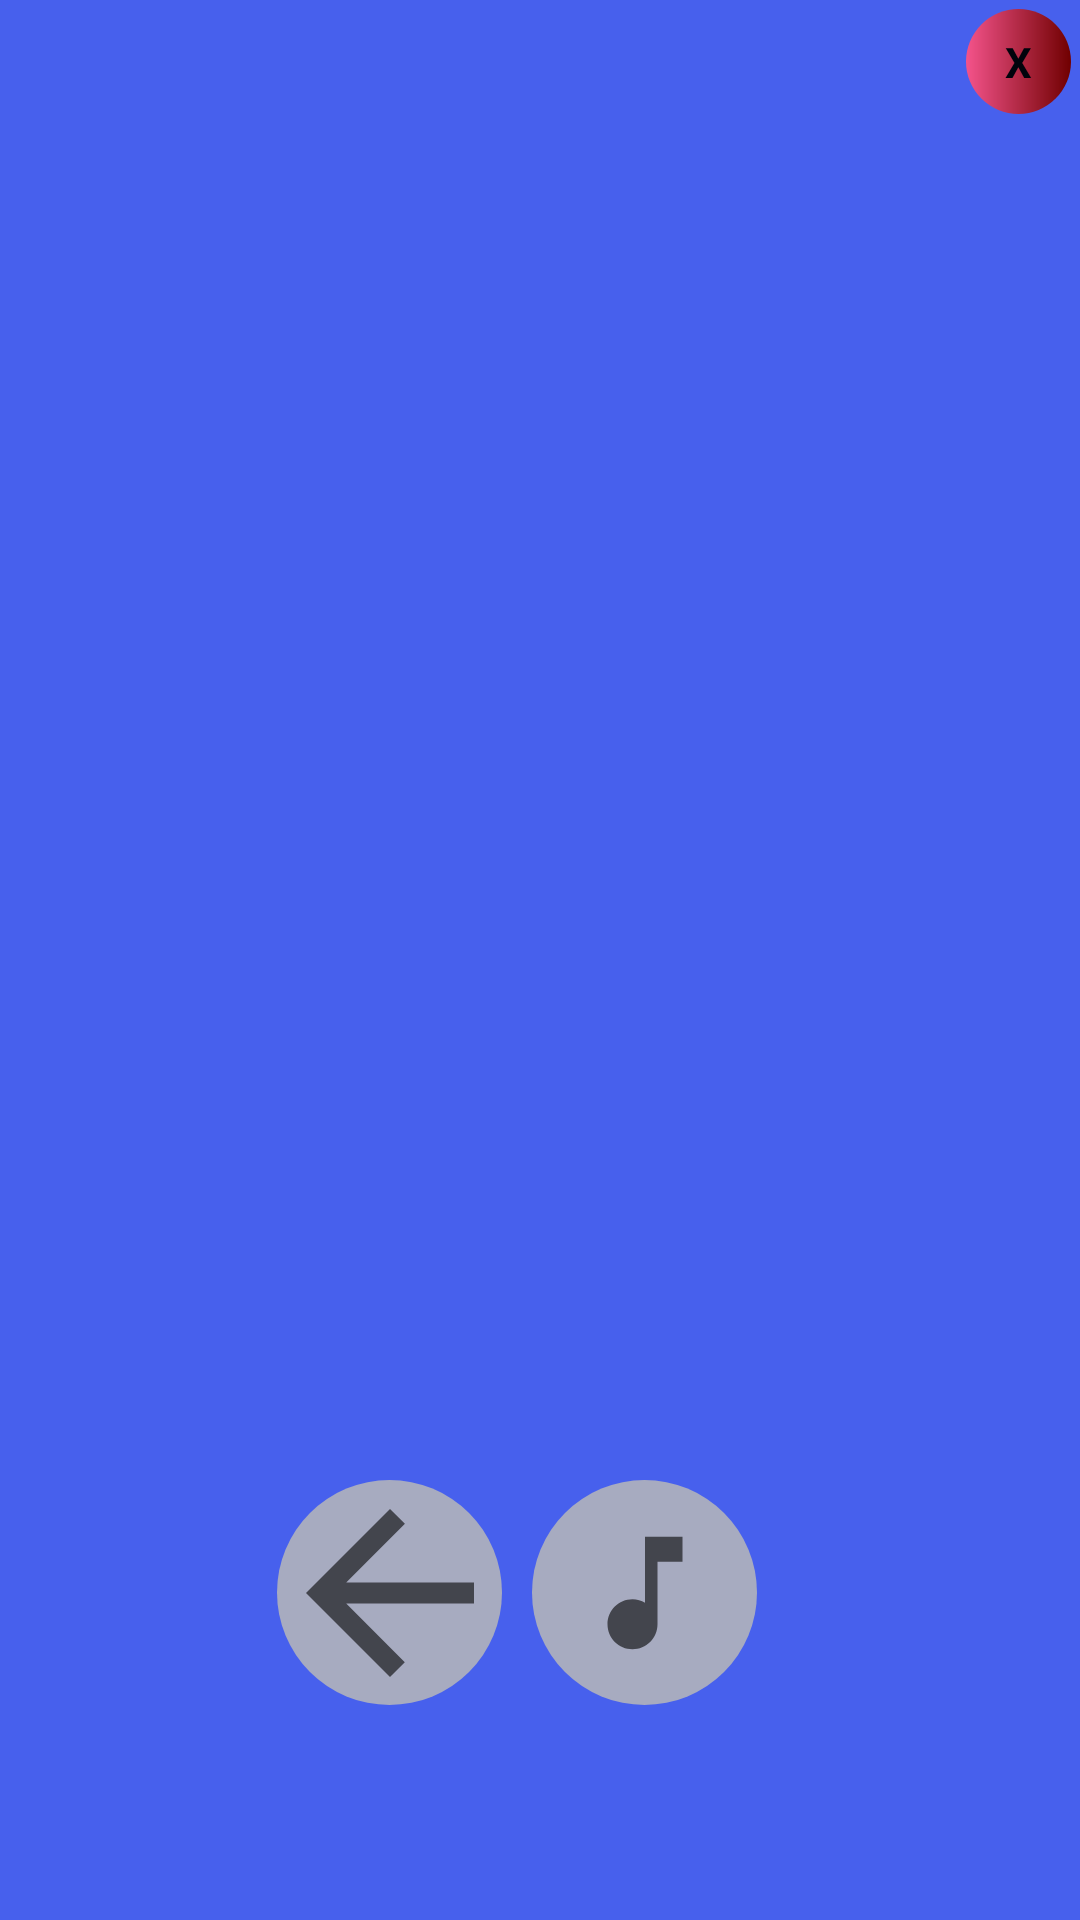

Where to tap for icons on this 1080 × 1920 app screen, as [x,y]:
back: [389,1592]
music: [644,1592]
